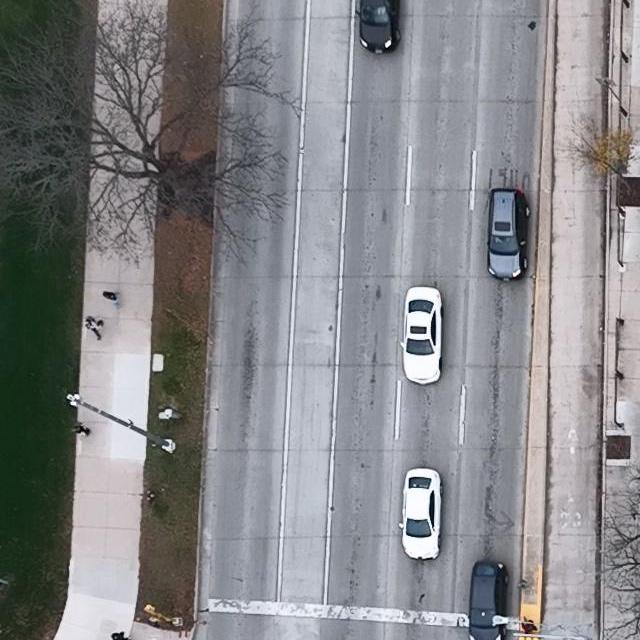car: (400, 286, 445, 386), (398, 468, 445, 559), (487, 189, 531, 282), (467, 560, 511, 640), (355, 0, 400, 55)
